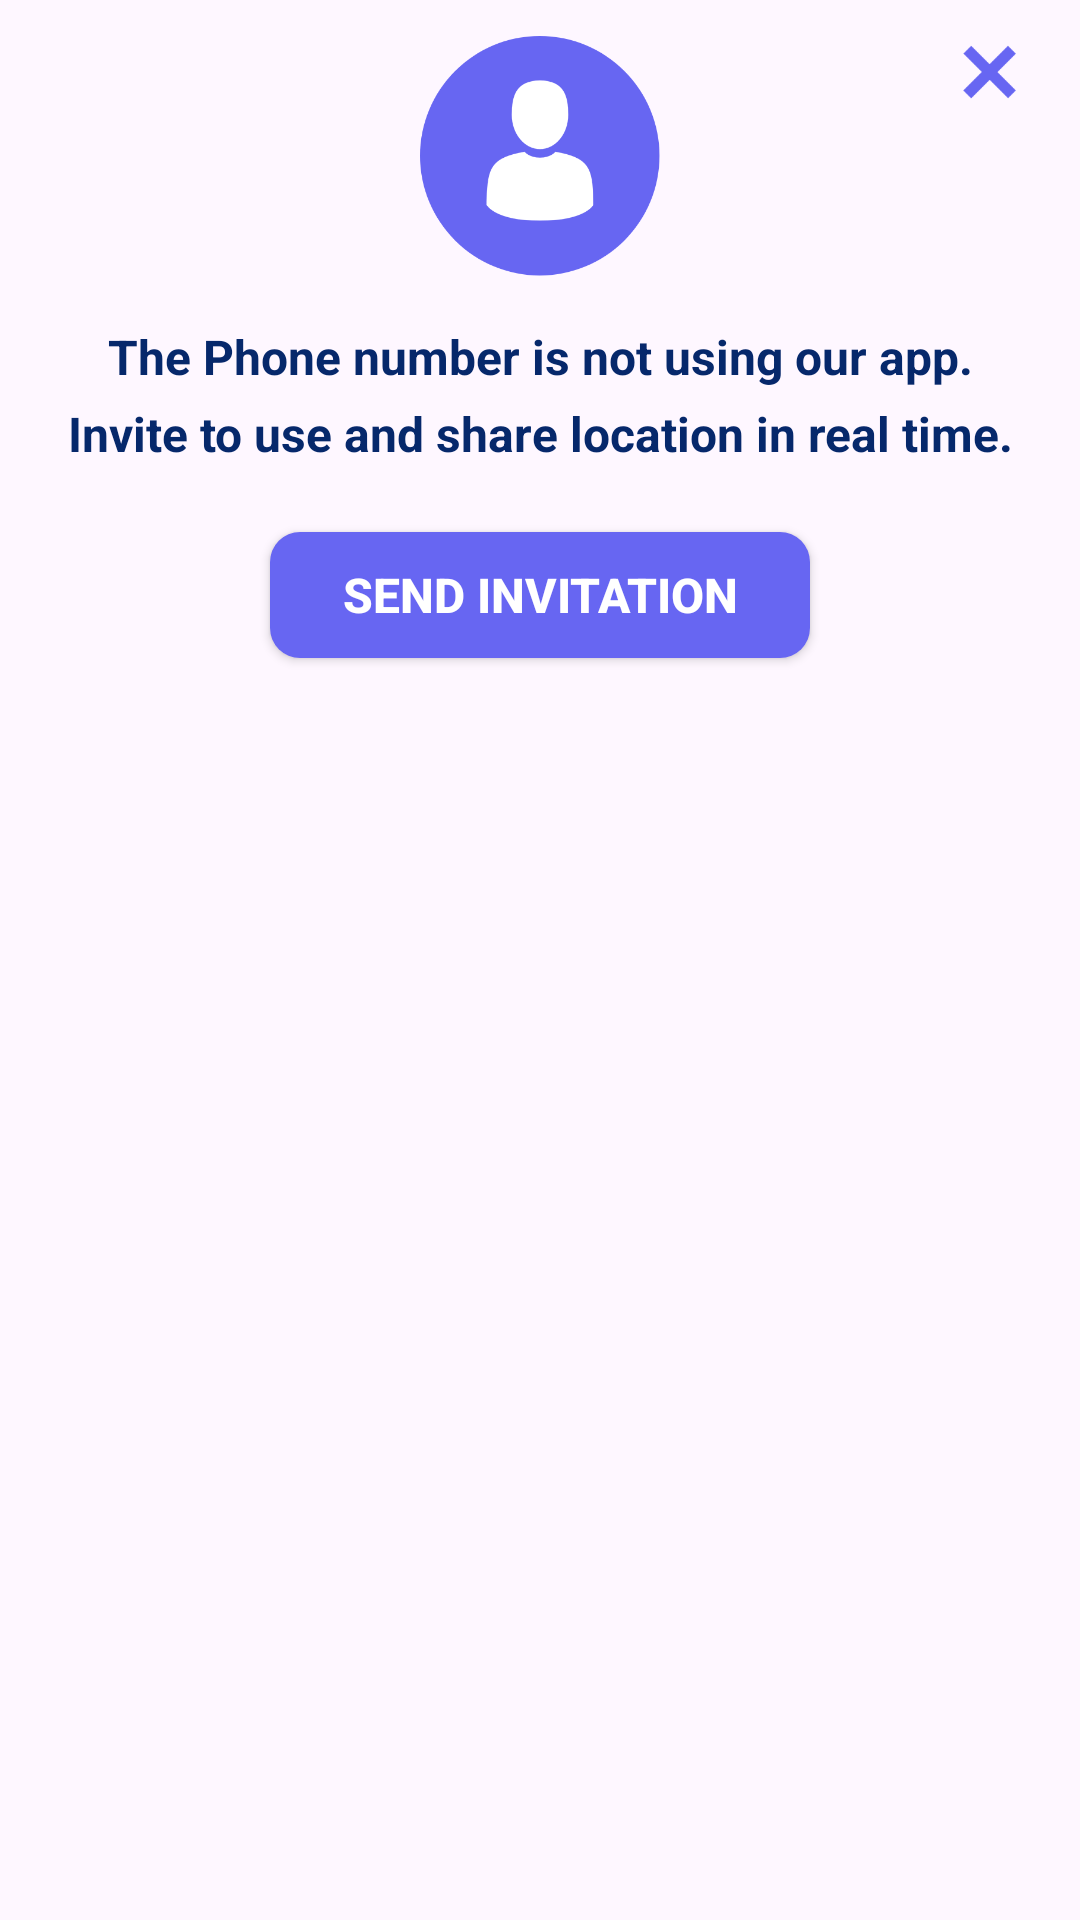

Icon click points for this 1080px x 1920px phone screenshot, format (x=x, y=y):
close: (x=989, y=72)
profile: (x=540, y=156)
